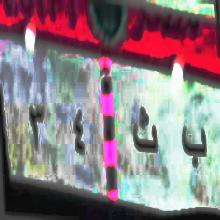3: (26, 96, 46, 157)
4: (69, 103, 89, 165)
baa: (180, 124, 209, 170)
thaa: (132, 107, 159, 165)
